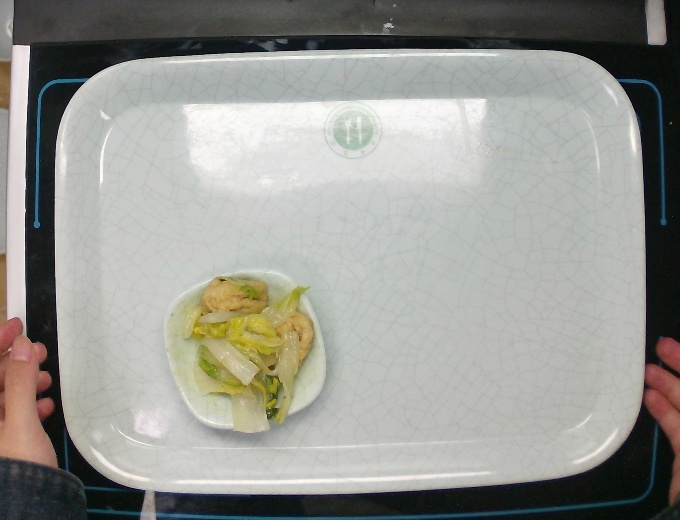JYsf-Si_Fang_Die: (161, 264, 334, 431)
